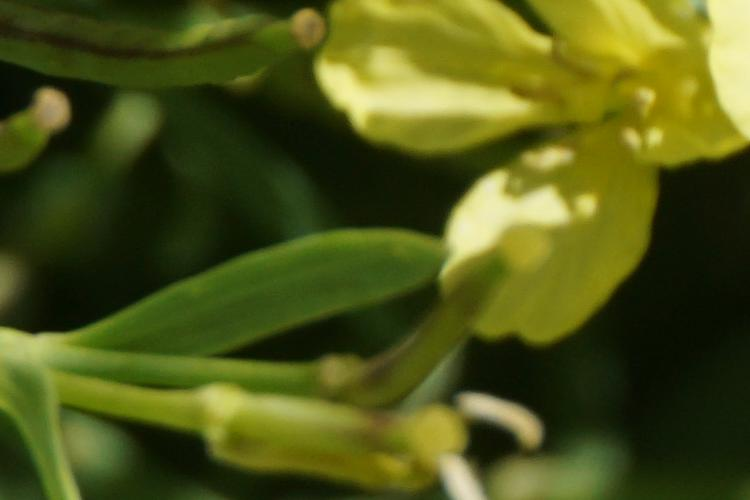pod: (98, 379, 528, 494), (294, 264, 511, 420), (39, 13, 341, 97)
yellow: (354, 20, 749, 337)
